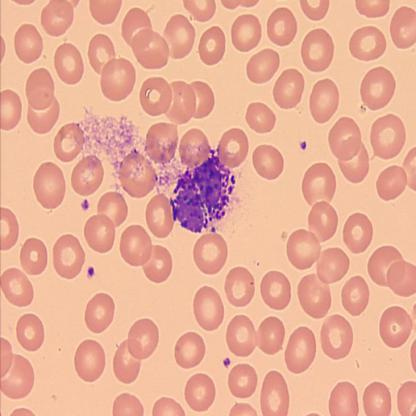Basophil: (170, 153, 236, 233)
